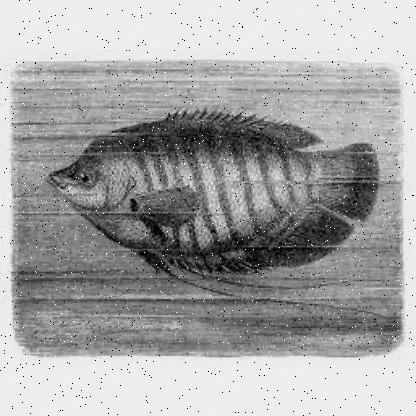gurame: (46, 108, 374, 276)
